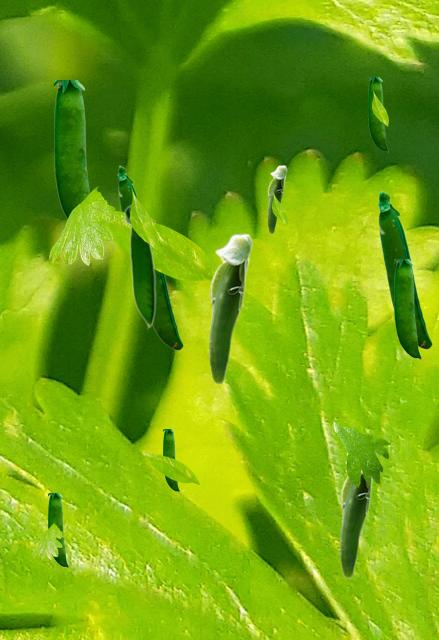pea: (377, 190, 431, 348), (208, 233, 252, 384), (54, 80, 89, 218), (339, 454, 377, 578), (123, 204, 155, 329), (394, 259, 420, 359), (153, 271, 182, 349), (48, 493, 67, 567), (368, 77, 387, 151), (267, 165, 286, 233), (163, 429, 178, 491), (117, 165, 137, 210)
